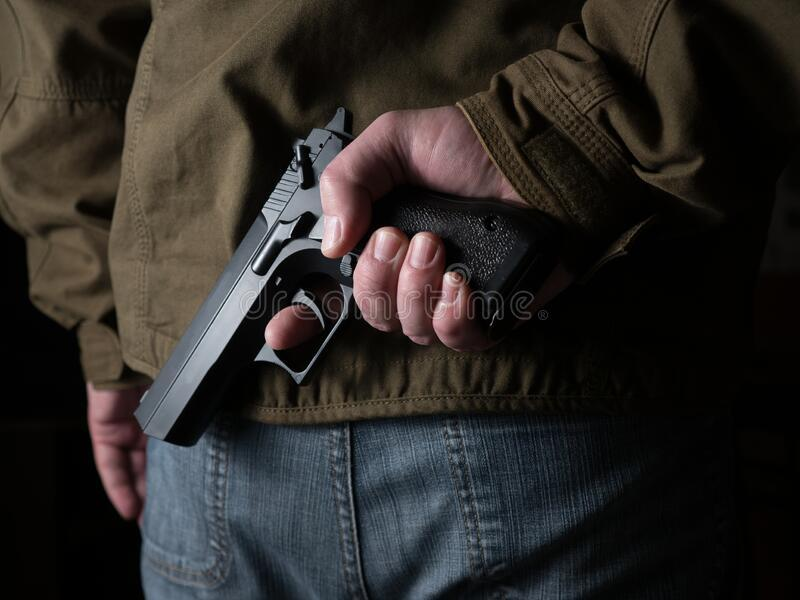weapon: (128, 100, 559, 451)
